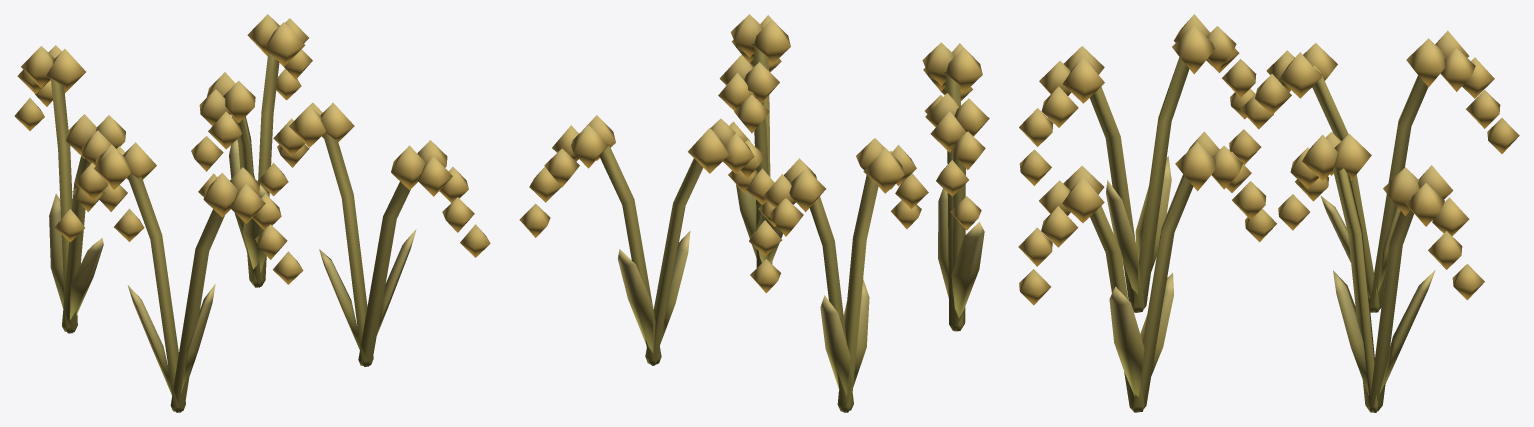
The model's file is prop-crop-rice-ripe.glb.
The picture shows the model from 3 angles, left to right: view 1: azimuth 30°, elevation 25°; view 2: azimuth 150°, elevation 25°; view 3: azimuth 270°, elevation 25°; orthographic projection. The views are drawn at different scales.
Visible parts, largest first — view 1: leaf; view 2: leaf; view 3: leaf.
Part boxes in pixels (<box>): leaf: <box>14,14,490,412</box>; leaf: <box>519,14,989,412</box>; leaf: <box>1018,14,1519,412</box>.
Bounding box in the file's own units: 0.7377 × 0.5324 × 0.8488.
